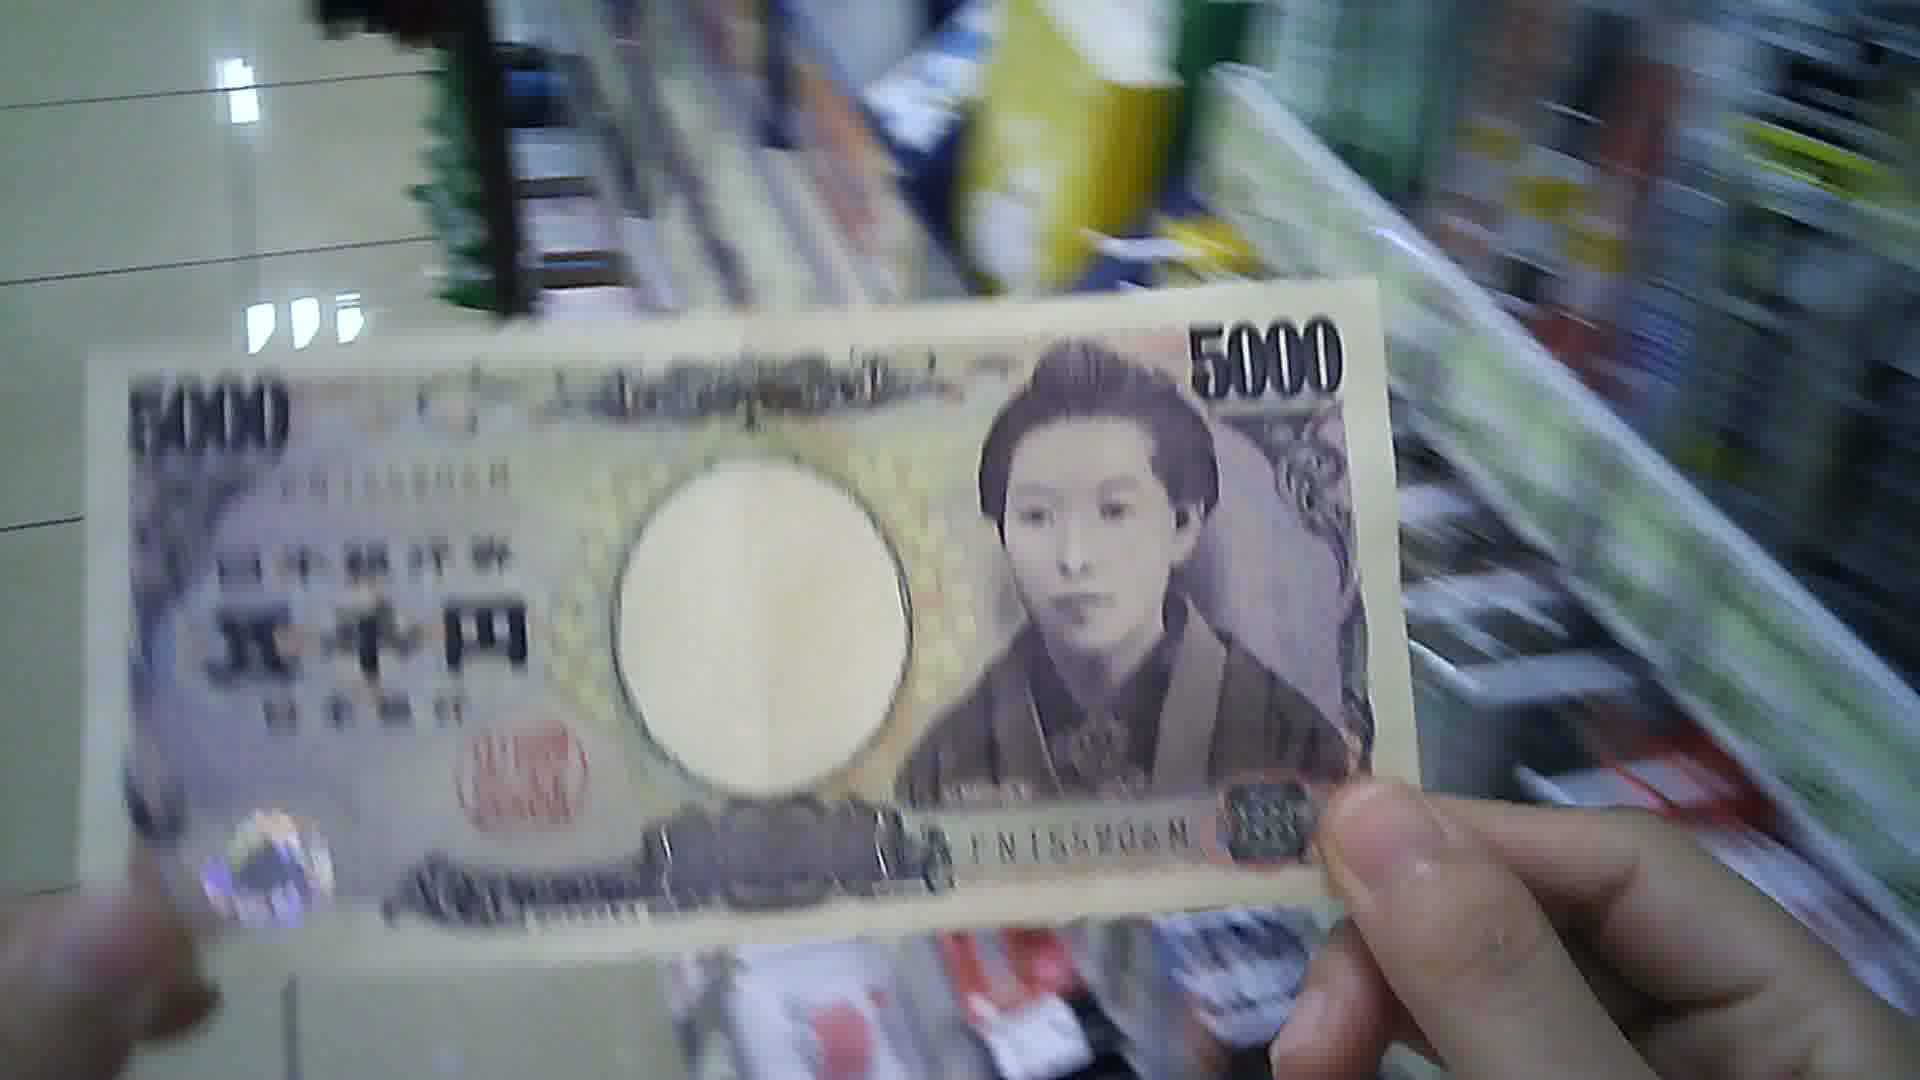5,000 Yen: (73, 291, 1433, 971)
